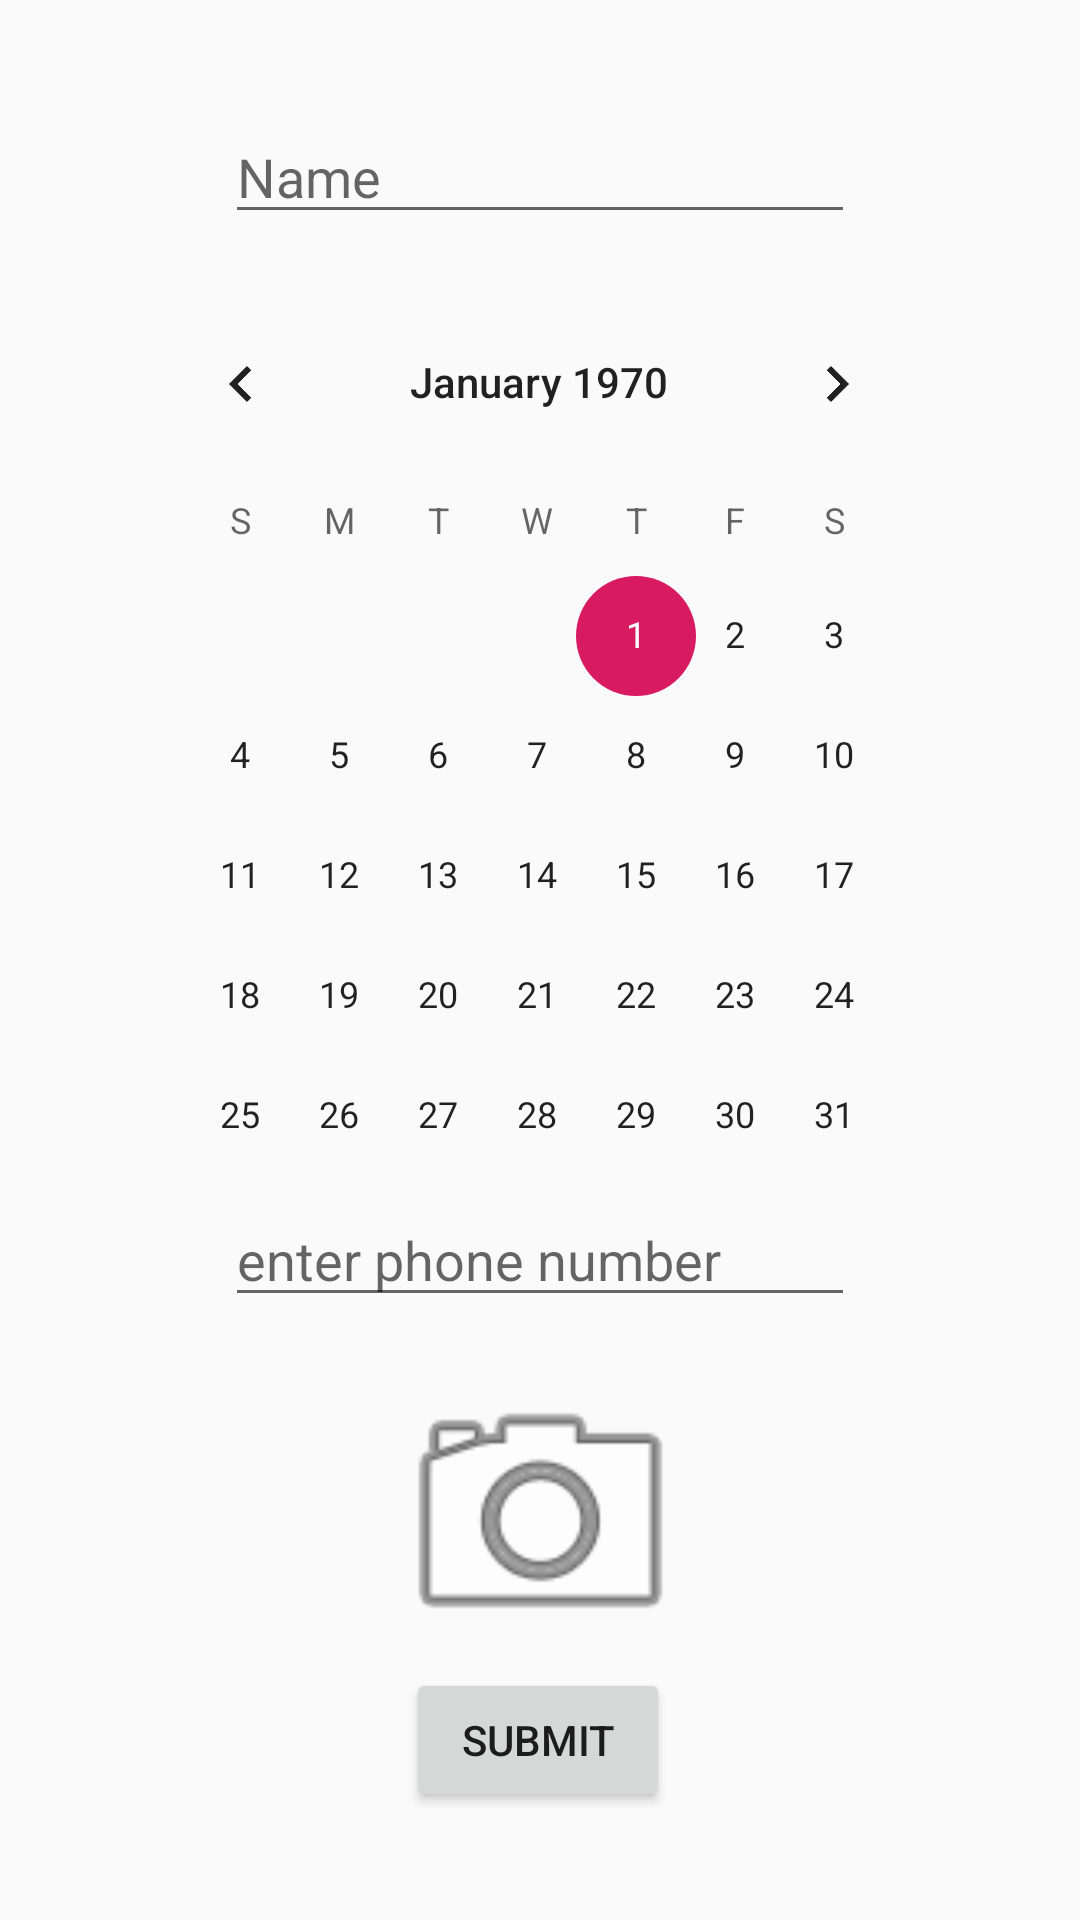

Screen size 1080px x 1920px. Icon name, then its center in pixels as point (x, y):
camera: point (540, 1510)
